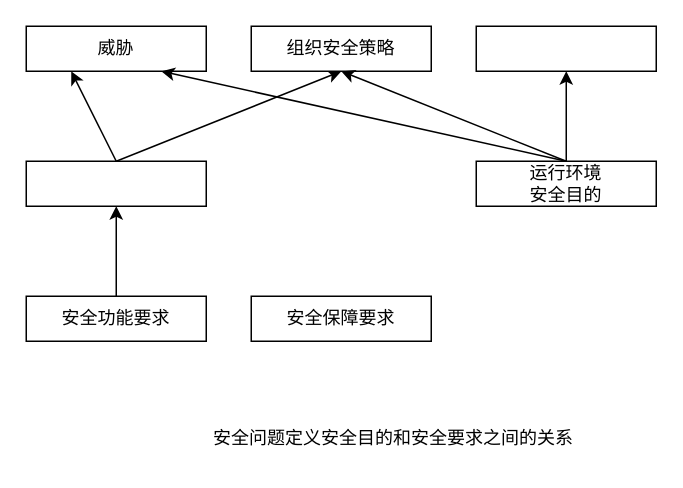
Image size: 683x488. Some labels were removed from this diagram. The shapes that lost their labels are listed below. From the top down, each one's centre as x and y in pixels, then its label:
At (565,48): "假设".
At (115,183): "TOE 安全目的".
